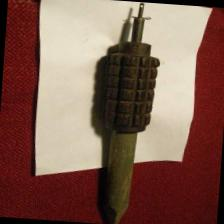POMZ2: (83, 0, 166, 224)
